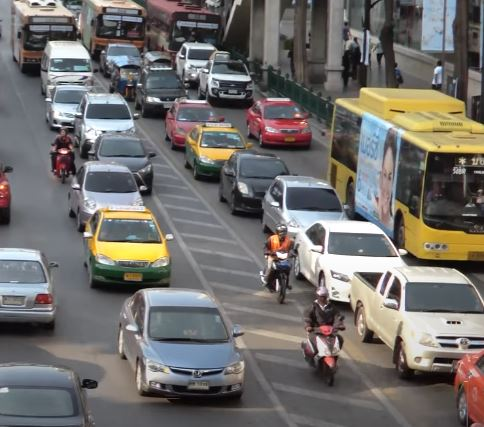Bus: (326, 88, 484, 264), (10, 1, 80, 69), (146, 1, 218, 56), (81, 1, 147, 57)
Car: (116, 286, 246, 407), (350, 264, 484, 377), (295, 220, 407, 307), (80, 206, 171, 287), (261, 174, 349, 244), (1, 361, 94, 425), (65, 160, 146, 229), (216, 148, 291, 217), (1, 246, 56, 326), (182, 123, 252, 178), (73, 91, 134, 154), (247, 94, 312, 148), (90, 134, 153, 188), (165, 96, 222, 146), (199, 54, 253, 106), (42, 41, 97, 90), (139, 66, 186, 117), (46, 85, 90, 129), (175, 42, 216, 86), (103, 41, 141, 66)
Motorcycle: (302, 286, 349, 387), (258, 224, 298, 302)
TukTuk: (111, 58, 140, 97)
